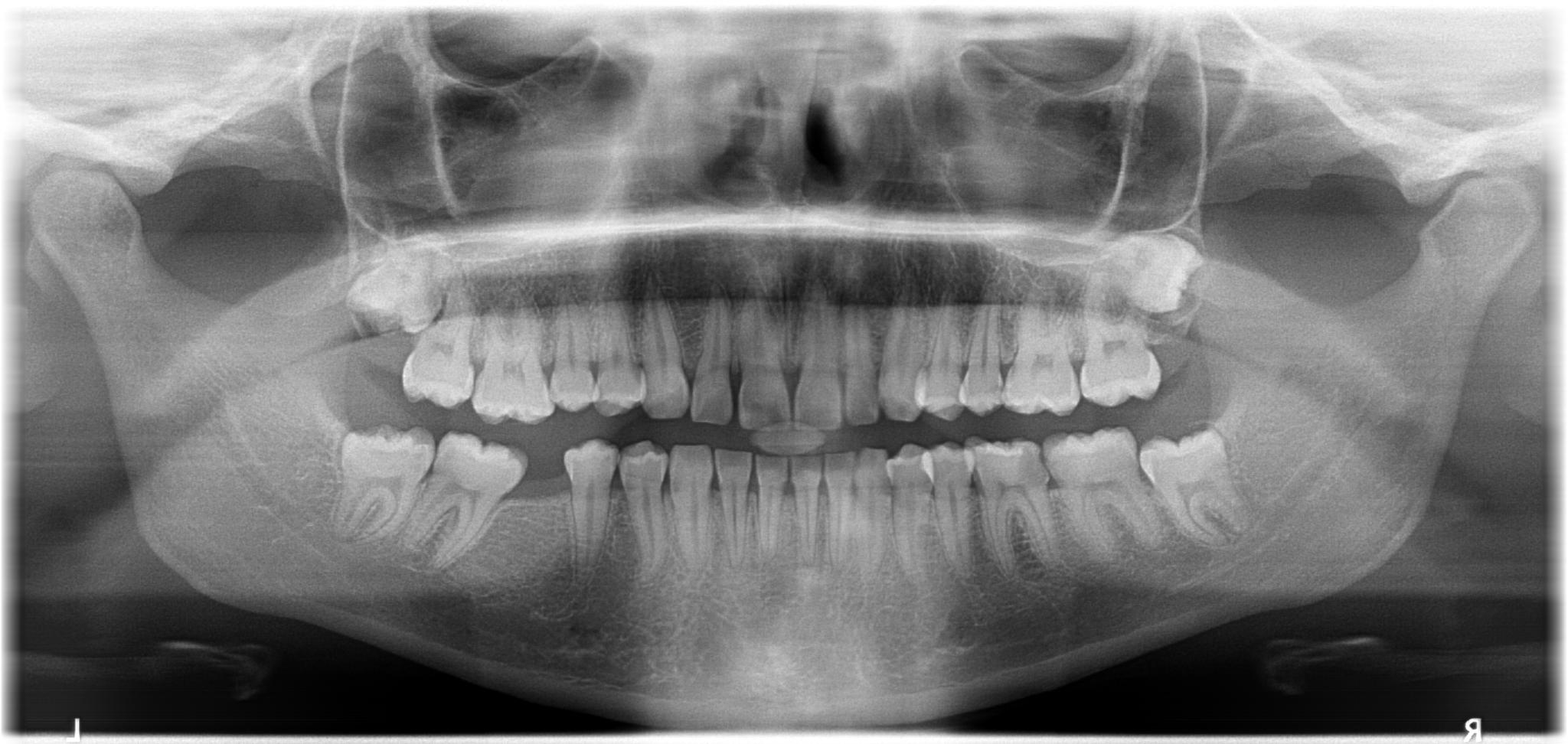Premolars: (530, 232, 1563, 667), (511, 217, 1517, 659), (554, 218, 1568, 650), (595, 223, 1568, 659), (623, 238, 1568, 663), (322, 229, 919, 669), (552, 125, 1567, 372), (518, 124, 1496, 376), (615, 134, 1568, 368), (245, 225, 720, 658), (217, 213, 626, 642), (222, 209, 605, 627), (312, 131, 861, 391), (282, 245, 809, 511), (249, 130, 634, 365)
